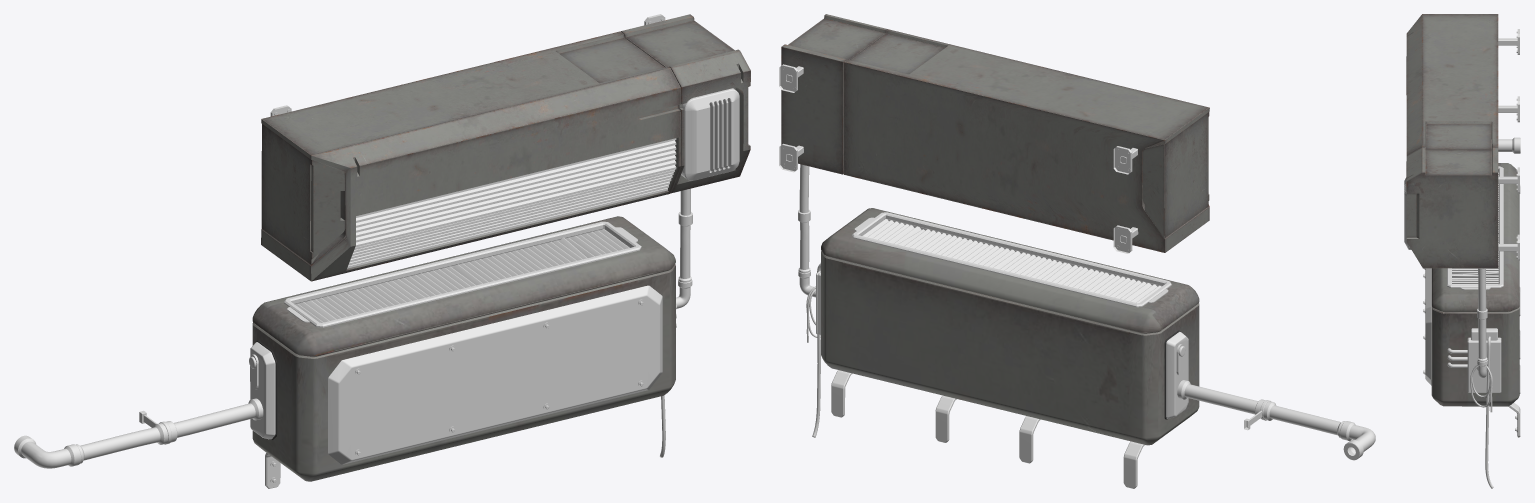
File: ACunitC.fbx
The picture shows the model from 3 angles, left to right: view 1: azimuth 30°, elevation 25°; view 2: azimuth 150°, elevation 25°; view 3: azimuth 270°, elevation 25°; orthographic projection. The views are drawn at different scales.
Parts seen in each view (by area): view 1: ACunitC; view 2: ACunitC; view 3: ACunitC.
Boxes of the visible parts, x1,y1,x2,y2 form: ACunitC: (14,14,750,488); ACunitC: (779,14,1375,488); ACunitC: (1404,14,1520,488).
Bounding box in the file's own units: 2.21 × 1.38 × 0.4432.
